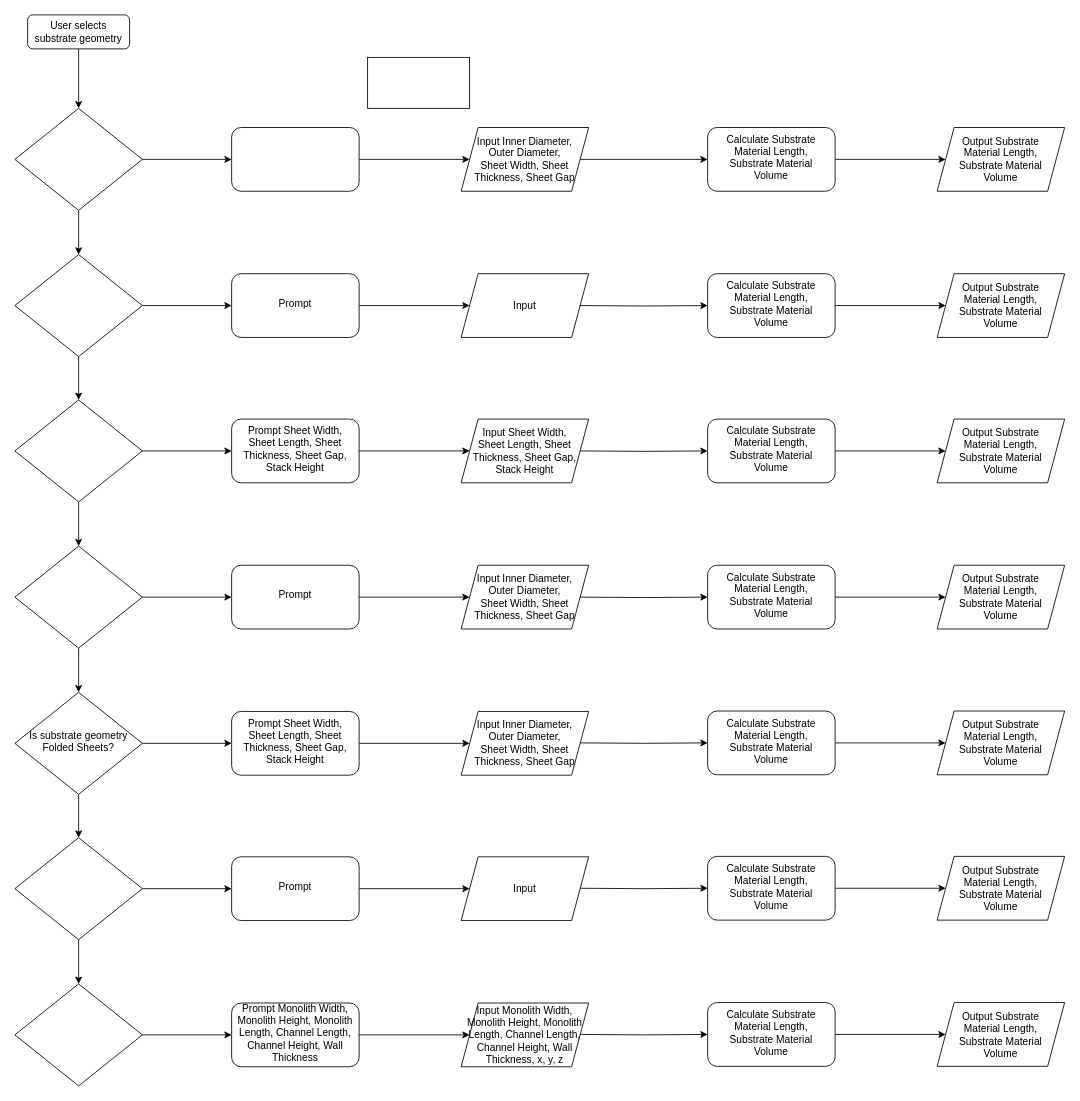
The diagram is 1080 pixels wide and 1101 high, and some of its shapes have lost their labels. The shapes that lost their labels are listed below. From the top down, each one's box as (x1, y1, x2, y2) in pixels, then its label:
(367, 57, 470, 108): Volume Calculation
(14, 108, 142, 210): Is substrate geometry Spiral Sheet?
(231, 127, 359, 191): Prompt Inner Diameter, Outer Diameter, Sheet Width, Sheet Thickness, Sheet Gap
(14, 254, 142, 357): Is substrate geometry Spiral Corrugation?
(14, 399, 142, 502): Is substrate geometry Stacked Sheets?
(14, 545, 142, 648): Is substrate geometry Stacked Corrugated Sheets?
(14, 837, 142, 940): Is substrate geometry Folded Corrugated Sheets?
(14, 983, 142, 1086): Is substrate geometry Monolith?
